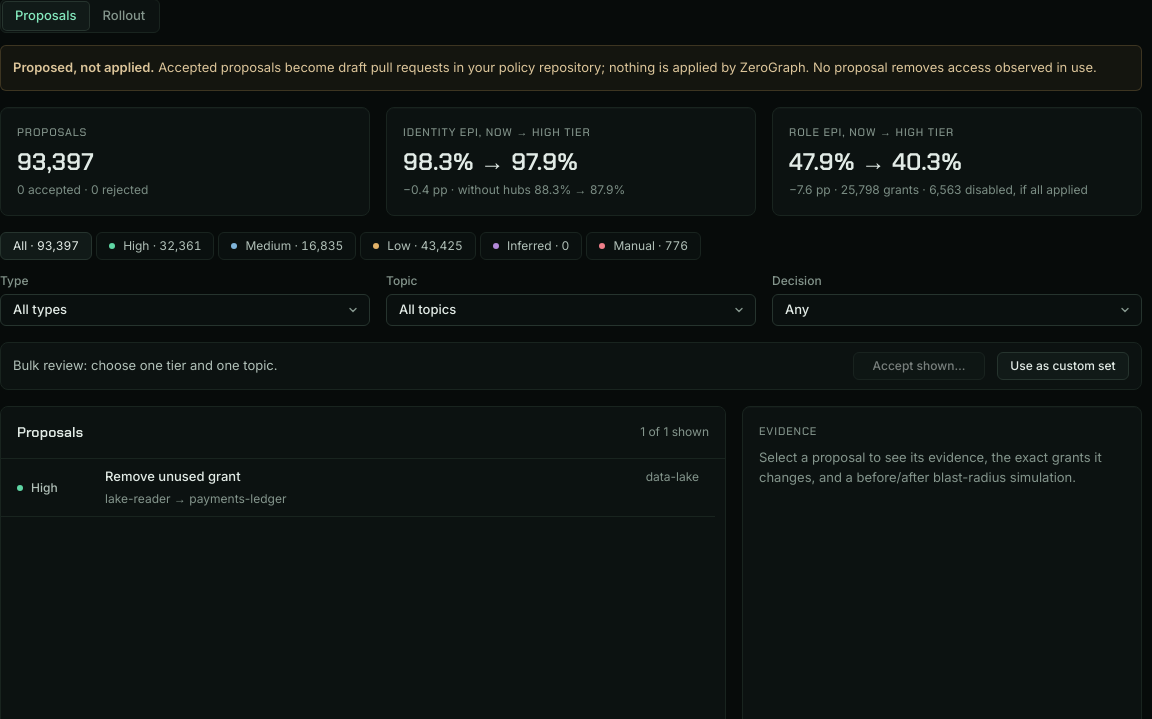
Test: Proposals view › shows a draft-only proposal without a pull request button
The image size is (1152, 719).
Click the button "Remove unused grant" at (173, 476), box [1,459,715,517]
(page scrolled)
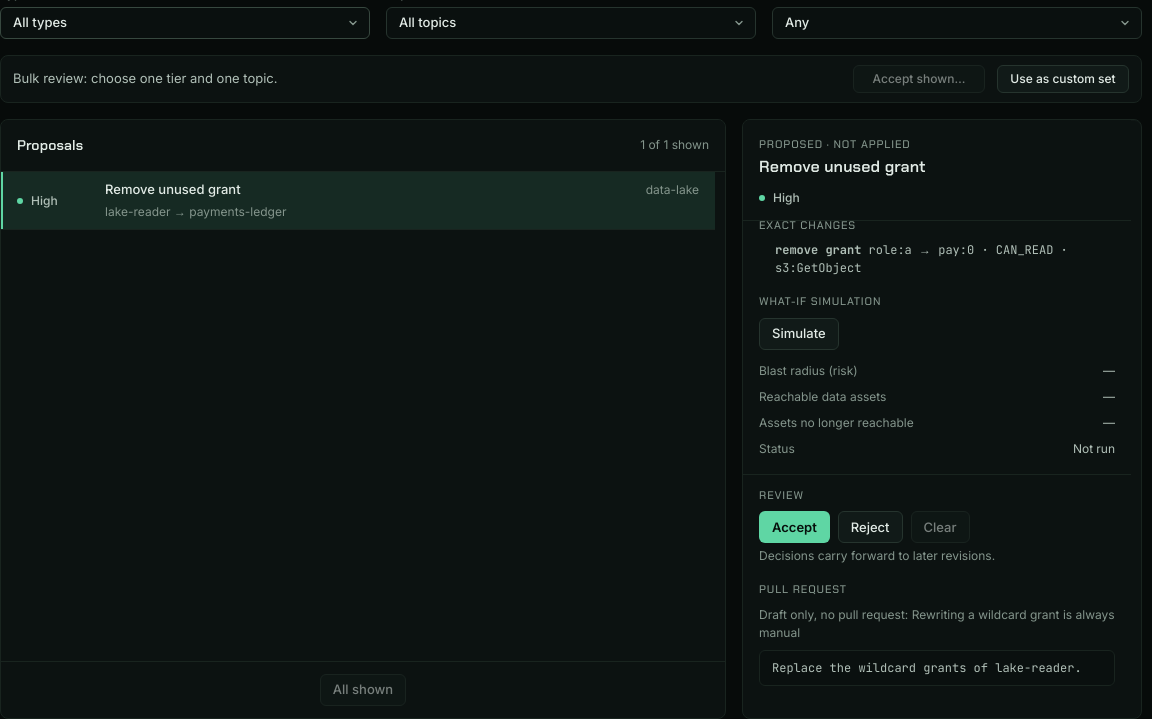
Check: the text "Draft only, no pull request: Rewriting a wildcard" is shown, box [759,606,1115,642]
